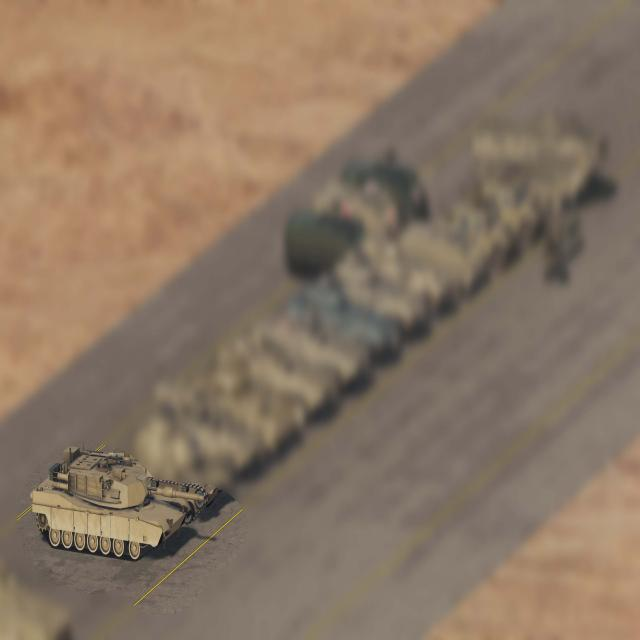tank: (30, 444, 222, 561)
